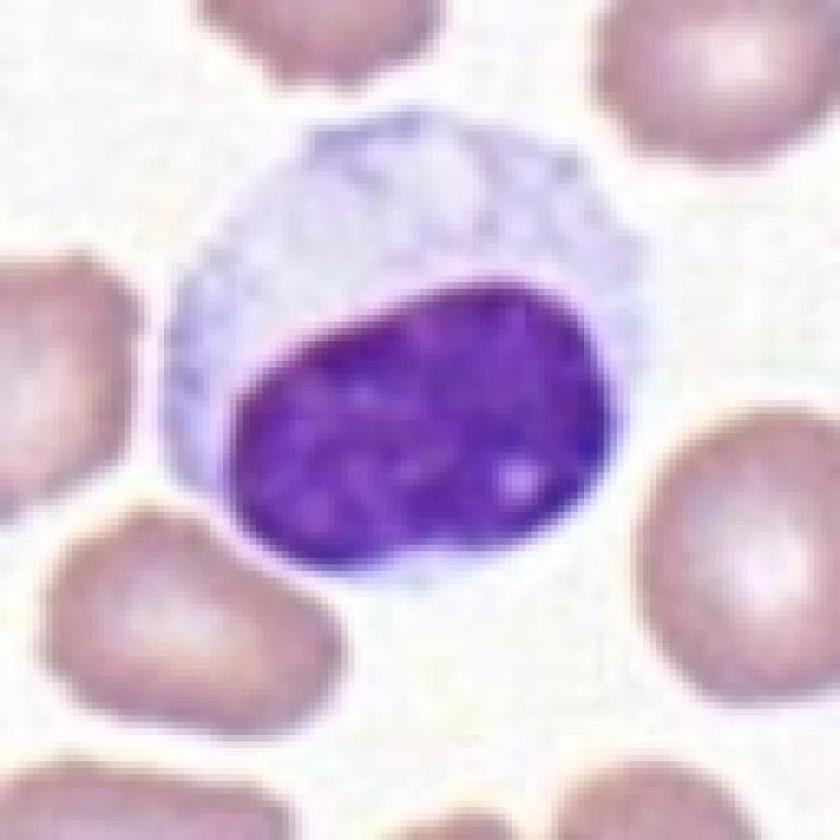lymphocyte: (157, 99, 659, 585)
